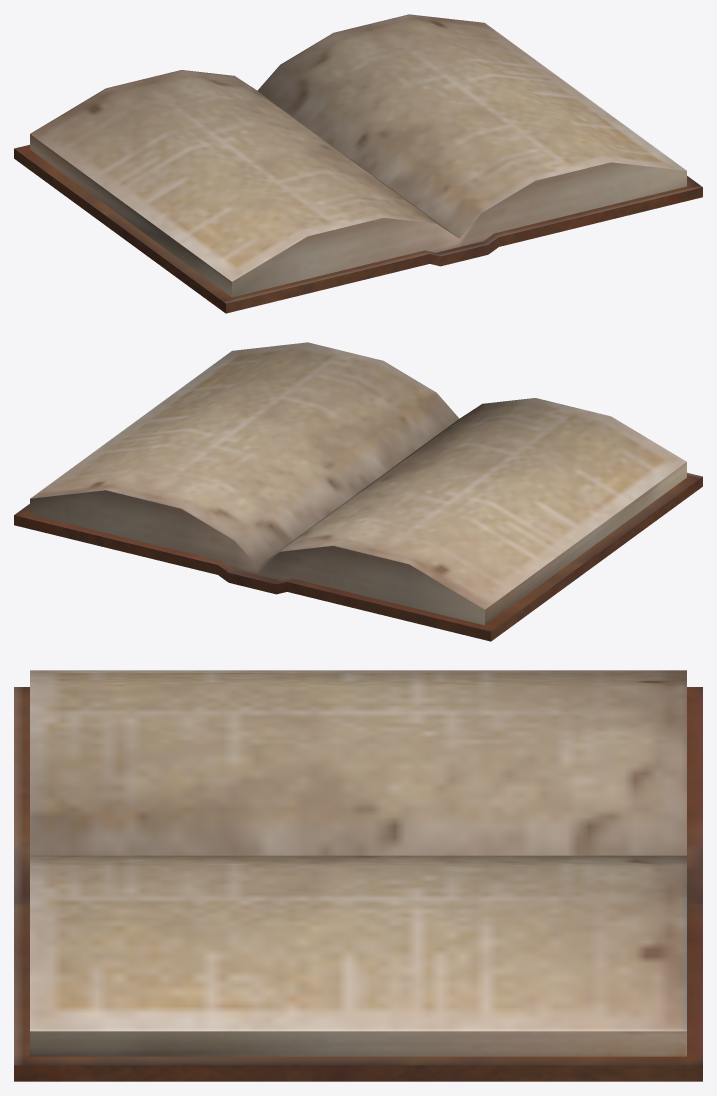
The model's file is book-01.fbx.
The picture shows the model from 3 angles, top to bottom: view 1: azimuth 30°, elevation 25°; view 2: azimuth 150°, elevation 25°; view 3: azimuth 270°, elevation 25°; orthographic projection. The views are drawn at different scales.
Parts seen in each view (by area): view 1: Cube.267_Cube.436; view 2: Cube.267_Cube.436; view 3: Cube.267_Cube.436.
Boxes of the visible parts, x1,y1,x2,y2 form: Cube.267_Cube.436: (14, 14, 702, 313); Cube.267_Cube.436: (14, 342, 702, 641); Cube.267_Cube.436: (14, 670, 702, 1081).
Size of the model in its own units: 0.7322 by 0.0846 by 0.5632.
